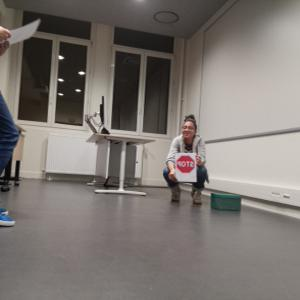stop: (176, 153, 194, 173)
